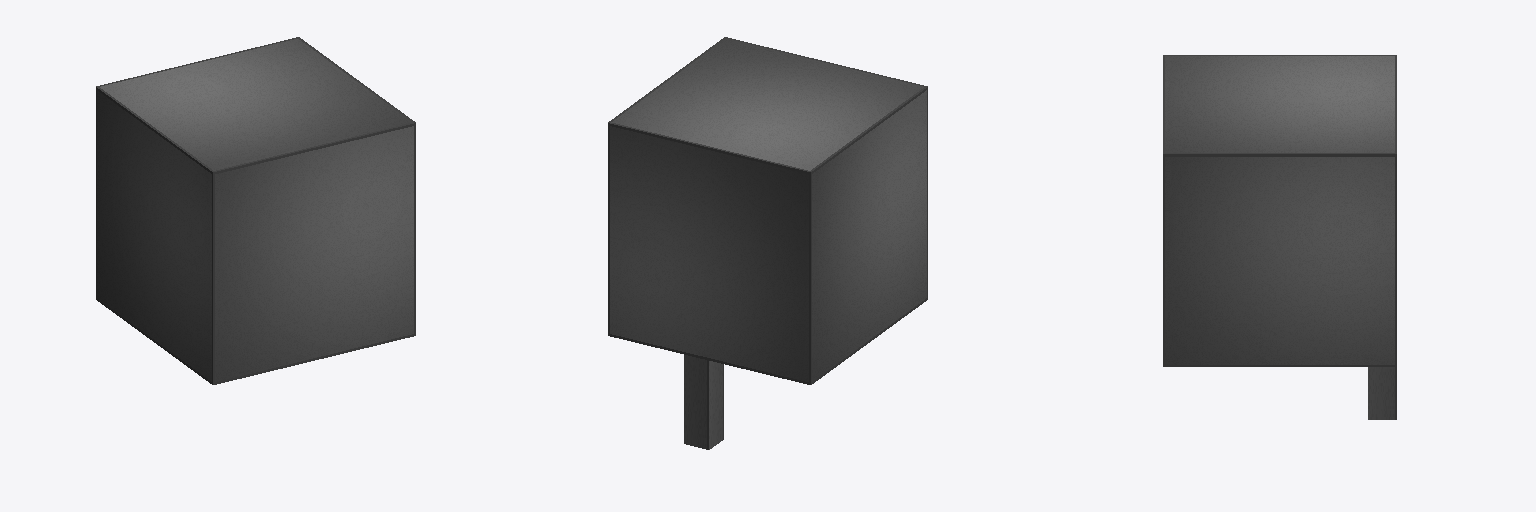
3 renders of one model, left to right at view 1: azimuth 30°, elevation 25°; view 2: azimuth 150°, elevation 25°; view 3: azimuth 270°, elevation 25°, orthographic.
Bounding box in the file's own units: 4 × 5.68 × 4.
Materials: 1 (1 with a texture image).